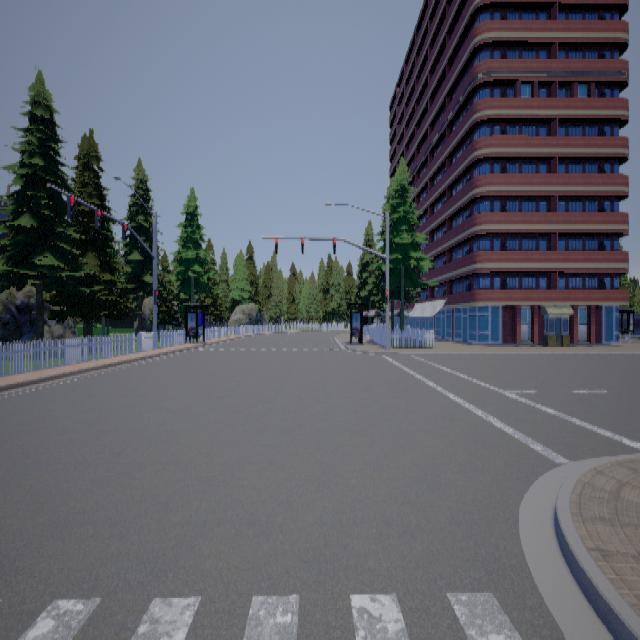red_light: (66, 194, 74, 219), (94, 207, 101, 229), (121, 221, 127, 239), (153, 288, 158, 303), (300, 237, 304, 254), (333, 237, 336, 254), (275, 236, 278, 253), (385, 288, 388, 304)
